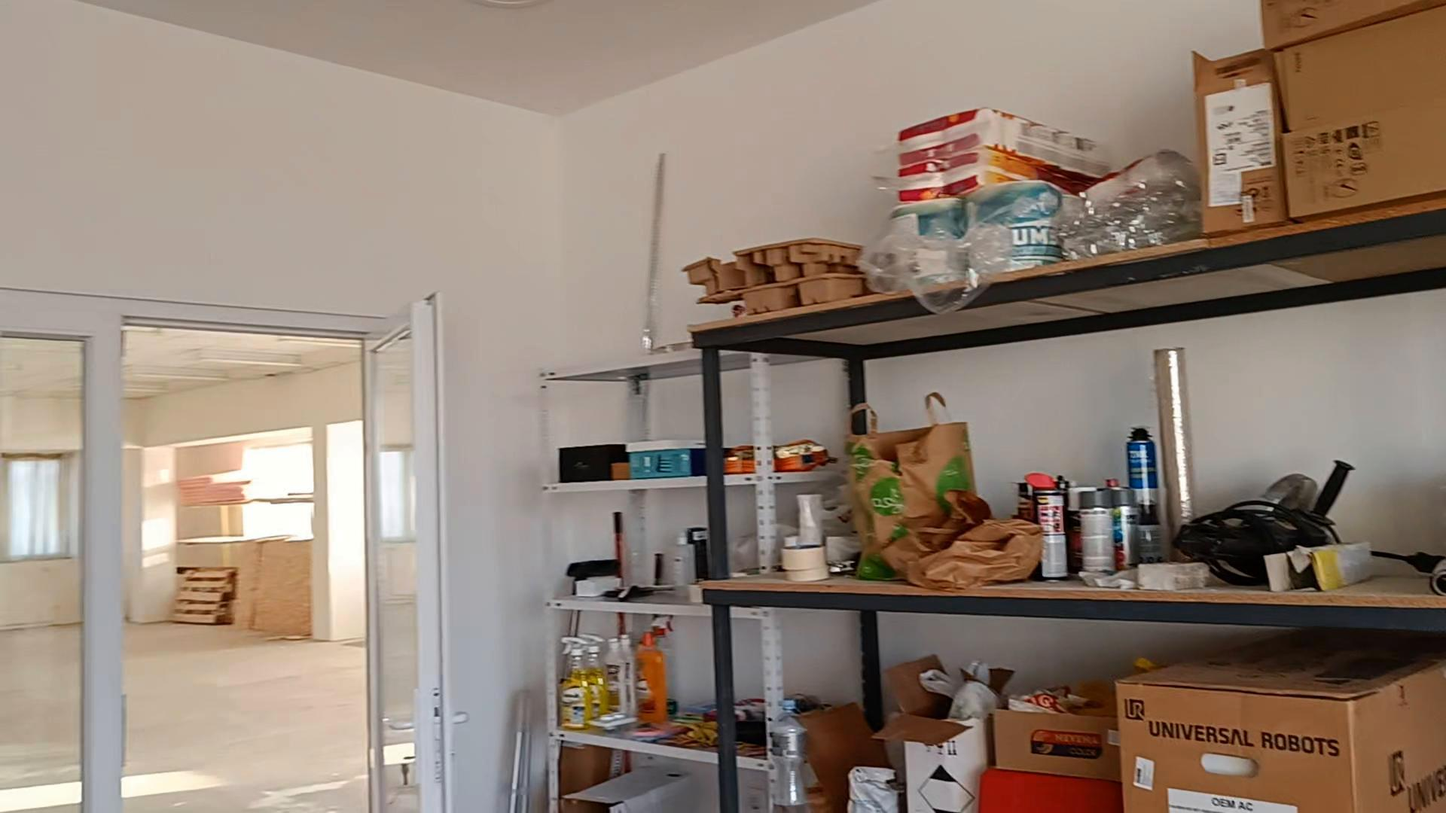ceiling: (79, 0, 876, 115)
floor: (121, 624, 367, 812), (6, 627, 78, 812)
wall: (0, 0, 1257, 812), (871, 301, 1441, 534), (132, 371, 359, 637)
